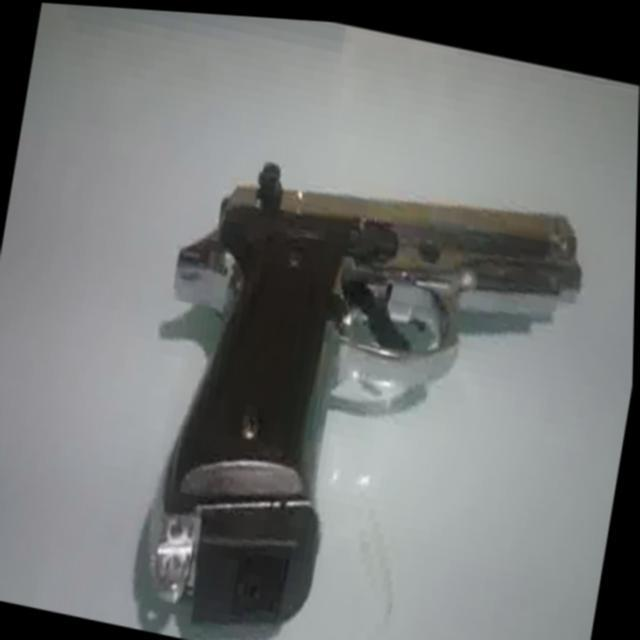weapon: (117, 128, 594, 640)
